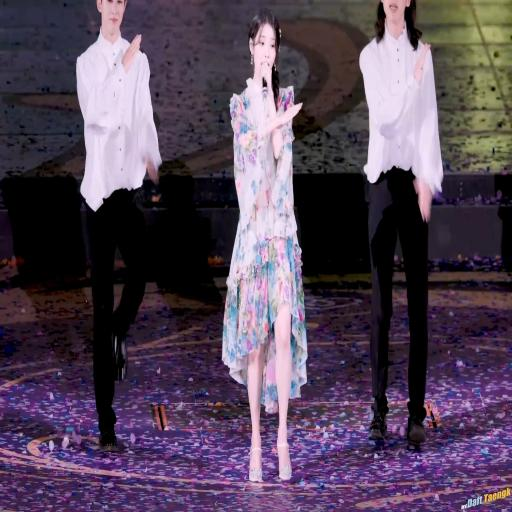IU: (248, 10, 281, 78)
